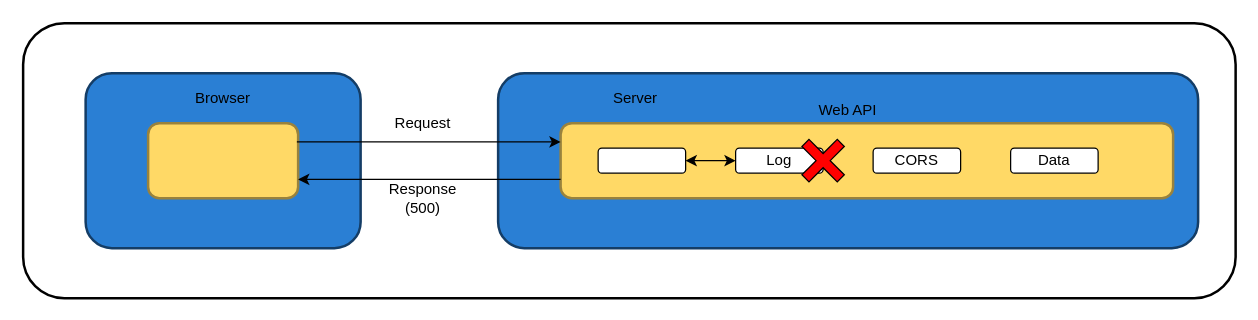
Image size: 1258x320. Some labels were removed from this diagram. The centre of each missing label's shape, as x and y in pixels:
Auth: point (641, 160)
Website: point (222, 160)
